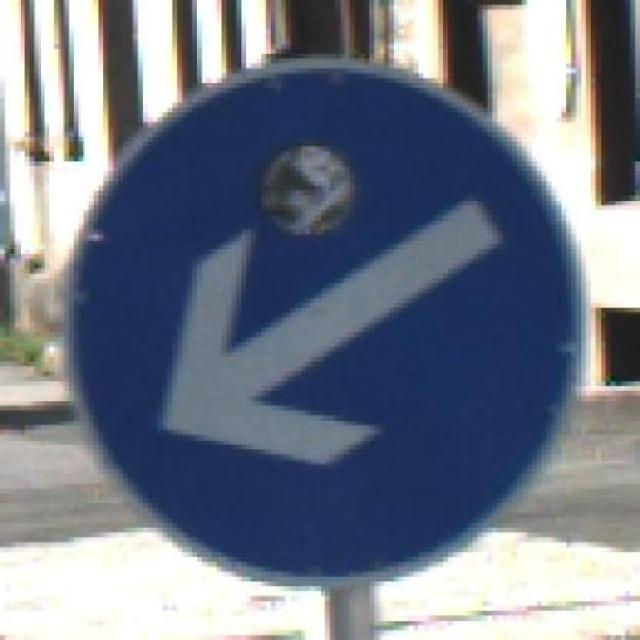Keep-Left: (49, 53, 591, 592)
